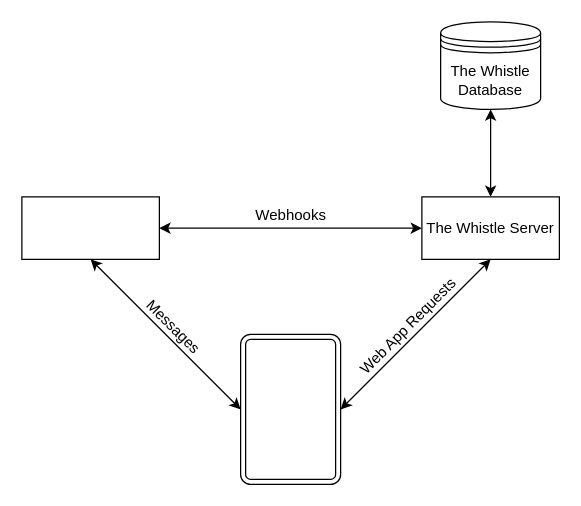
The diagram is 581 pixels wide and 506 high, and some of its shapes have lost their labels. The shapes that lost their labels are listed below. From the top down, each one's centre as x and y in pixels, then its label:
(x=90, y=227): Twilio Server
(x=290, y=408): End User
